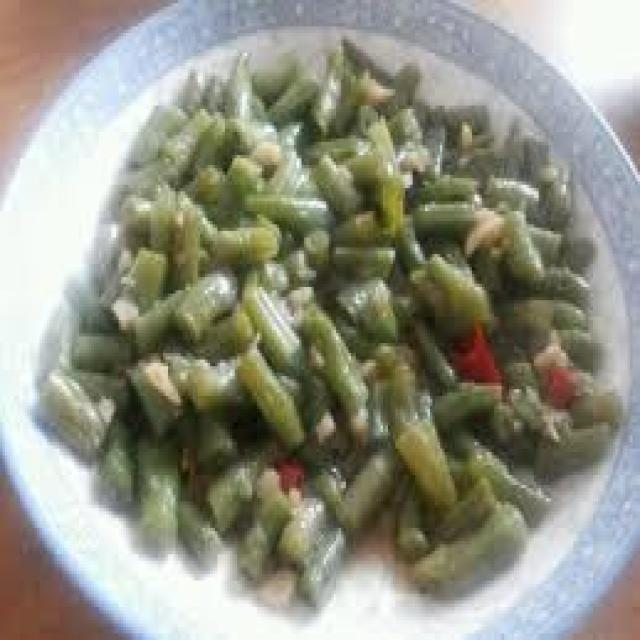food_waste: (35, 36, 623, 610)
